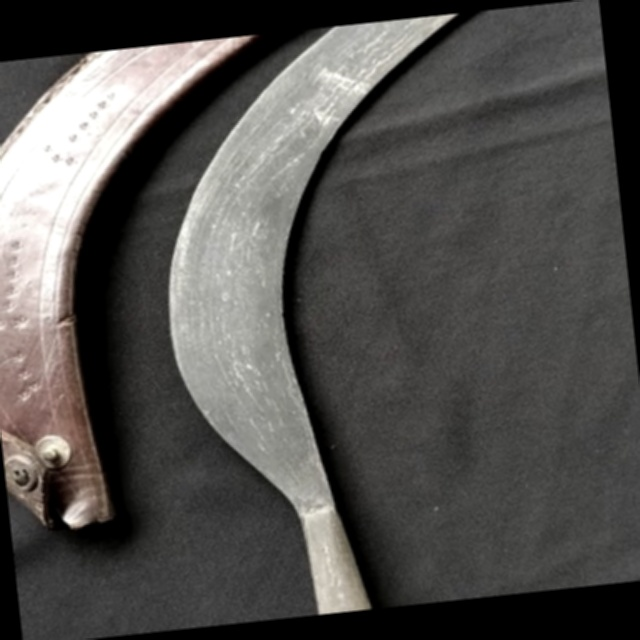Sharp-Object: (136, 10, 557, 628)
